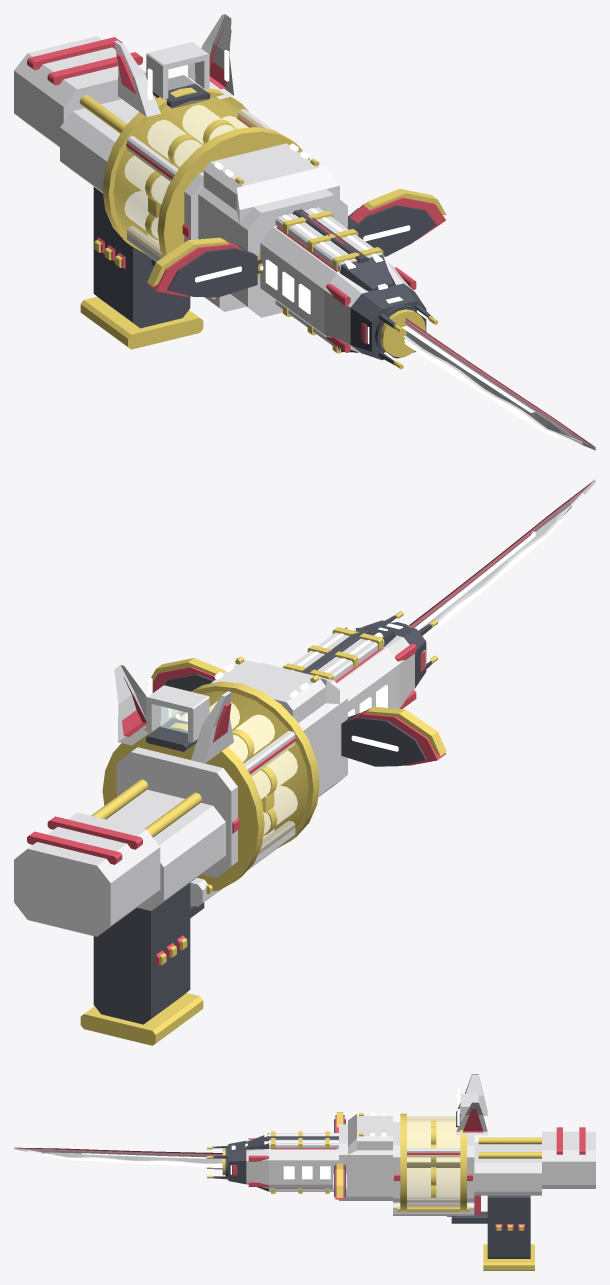
The model's file is blaster_kitsune_unified.glb.
3 views of the same model, one above another, from view 1: azimuth 30°, elevation 25°; view 2: azimuth 150°, elevation 25°; view 3: azimuth 270°, elevation 25° (orthographic). The views are drawn at different scales.
Parts seen in each view (by area): view 1: Chassis, BarrelAssembly, Cylinder, TsubaLeft, TsubaRight, BladeAssembly; view 2: Chassis, Cylinder, BarrelAssembly, TsubaLeft, BladeAssembly, TsubaRight; view 3: Chassis, BarrelAssembly, Cylinder, BladeAssembly, TsubaRight.
Part boxes in pixels (x1=…): Chassis: x1=14, y1=14, x2=347, y2=349; BarrelAssembly: x1=260, y1=207, x2=438, y2=369; Cylinder: x1=102, y1=86, x2=310, y2=257; TsubaLeft: x1=147, y1=237, x2=257, y2=297; TsubaRight: x1=347, y1=188, x2=446, y2=256; BladeAssembly: x1=402, y1=317, x2=595, y2=450; Chassis: x1=14, y1=656, x2=347, y2=1045; Cylinder: x1=102, y1=681, x2=319, y2=891; BarrelAssembly: x1=283, y1=611, x2=438, y2=716; TsubaLeft: x1=341, y1=707, x2=446, y2=766; BladeAssembly: x1=409, y1=479, x2=595, y2=638; TsubaRight: x1=147, y1=658, x2=225, y2=692; Chassis: x1=337, y1=1074, x2=595, y2=1270; BarrelAssembly: x1=207, y1=1131, x2=338, y2=1193; Cylinder: x1=400, y1=1113, x2=466, y2=1211; BladeAssembly: x1=14, y1=1147, x2=222, y2=1167; TsubaRight: x1=333, y1=1163, x2=346, y2=1199.
Bounding box in the file's own units: 0.82 × 0.883 × 2.58.
